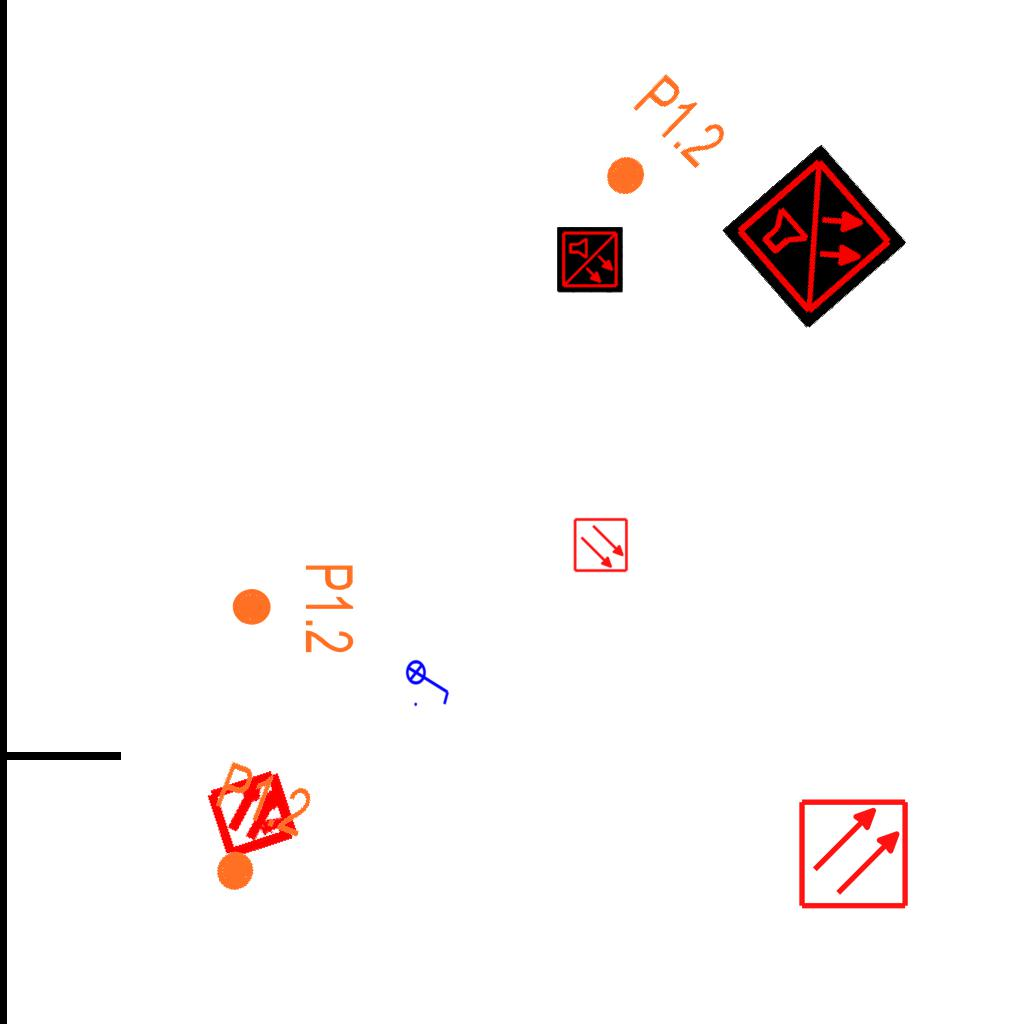Ausschalter_beleuchtet: (405, 653, 453, 709)
Downlight_LED_Einbauleuchten_Flur: (577, 68, 734, 226), (185, 756, 318, 910), (229, 562, 357, 655)
OKW_Multisensormelder_(Kombination_optischer_Rauch-Kahlenmonoxid_Waerme-Melder): (721, 143, 909, 331), (557, 227, 623, 293)
OT_Multisensormelder_(Kombination_RMO_WMD): (183, 742, 326, 885)
RMO_Rauchmelder_optischer: (797, 797, 910, 910), (573, 517, 629, 573)
